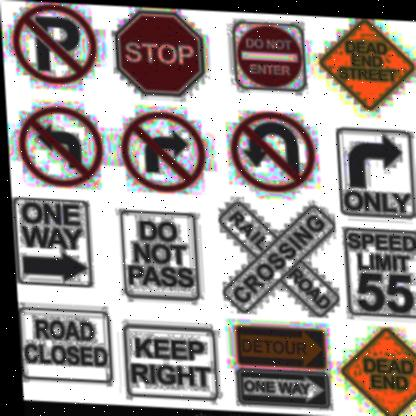No U-turn: (221, 104, 320, 195)
